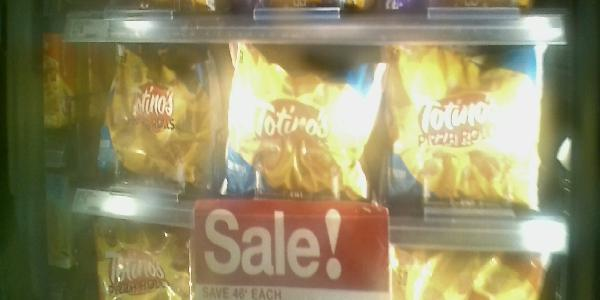icecream: (385, 38, 544, 218), (222, 45, 376, 202), (91, 44, 210, 191)
